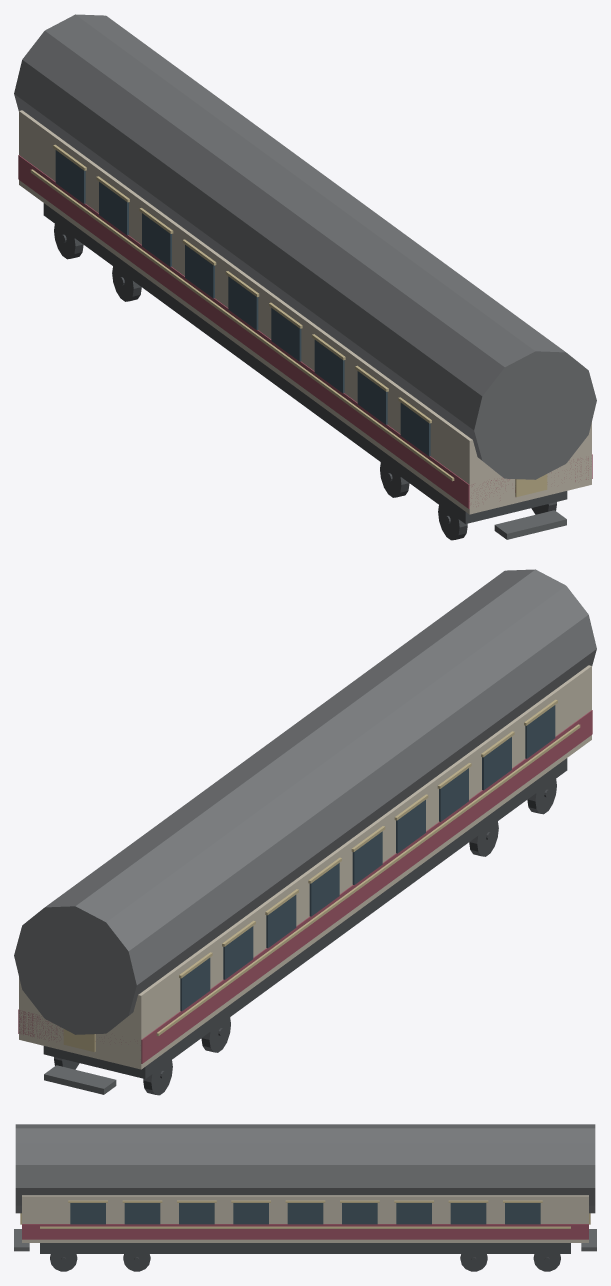
File: br_mk1_crimson_cream_coach.glb
3 renders of one model, top to bottom at view 1: azimuth 30°, elevation 25°; view 2: azimuth 150°, elevation 25°; view 3: azimuth 270°, elevation 25°, orthographic. The views are drawn at different scales.
Visible parts, largest first — view 1: coach_roof, coach_body, lower_waist, underframe, waistline_L, end_step_8.131, window_L_8, window_L_0, window_L_4, window_L_6, window_L_5, window_L_7 (+3 smaller); view 2: coach_roof, coach_body, lower_waist, underframe, waistline_L, end_step_-8.131, window_L_0, window_L_2, window_L_4, window_L_8, window_L_1, window_L_3 (+3 smaller); view 3: coach_roof, coach_body, lower_waist, underframe, waistline_R, window_R_1, window_R_4, window_R_7, window_R_0, window_R_2, window_R_3, window_R_5 (+8 smaller).
Boxes of the visible parts, x1,y1,x2,y2 form: coach_roof: [14, 14, 596, 479]; coach_body: [19, 110, 591, 514]; lower_waist: [18, 155, 592, 508]; underframe: [43, 203, 567, 523]; waistline_L: [30, 169, 454, 481]; end_step_8.131: [494, 510, 566, 539]; window_L_8: [400, 403, 430, 456]; window_L_0: [55, 150, 85, 203]; window_L_4: [228, 276, 258, 329]; window_L_6: [314, 340, 344, 393]; window_L_5: [271, 308, 301, 361]; window_L_7: [357, 371, 387, 424]; coach_roof: [14, 569, 596, 1034]; coach_body: [19, 665, 591, 1069]; lower_waist: [18, 710, 592, 1063]; underframe: [43, 758, 567, 1078]; waistline_L: [156, 724, 580, 1036]; end_step_-8.131: [44, 1065, 116, 1094]; window_L_0: [180, 958, 210, 1011]; window_L_2: [266, 895, 296, 948]; window_L_4: [352, 831, 382, 884]; window_L_8: [525, 705, 555, 758]; window_L_1: [223, 926, 253, 979]; window_L_3: [309, 863, 339, 916]; coach_roof: [15, 1124, 595, 1213]; coach_body: [22, 1195, 588, 1242]; lower_waist: [22, 1224, 588, 1239]; underframe: [40, 1243, 570, 1253]; waistline_R: [40, 1226, 570, 1228]; window_R_1: [450, 1203, 486, 1224]; window_R_4: [287, 1203, 323, 1224]; window_R_7: [124, 1203, 160, 1224]; window_R_0: [505, 1203, 540, 1224]; window_R_2: [396, 1203, 431, 1224]; window_R_3: [342, 1203, 377, 1224]; window_R_5: [233, 1203, 268, 1224].
Bounding box in the file's own units: 2.67 × 4.05 × 16.71.
